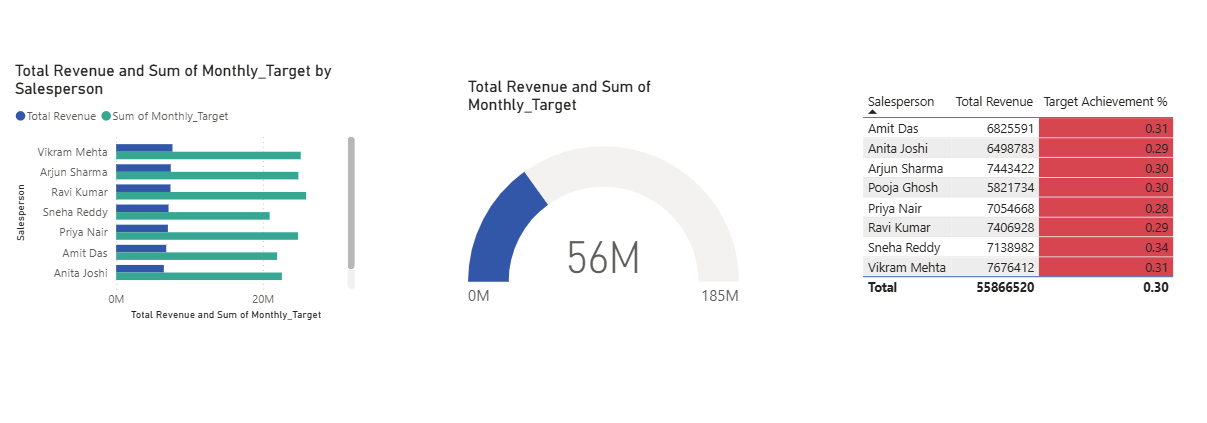

Layout of this report page (visuals, bound fields, positions):
{"tool":"powerbi","page":{"name":"Target vs Actual","canvas":[1280,720],"ordinal":2},"visuals":[{"type":"clusteredBarChart","fields":{"Category":["sales_data.Salesperson"],"Y":["sales_data.Total Revenue","Sum(sales_data.Monthly_Target)"]},"box":[12.9,80.6,369.9,279.6],"z":0},{"type":"gauge","fields":{"Y":["sales_data.Total Revenue"],"MaxValue":["Sum(sales_data.Monthly_Target)"]},"box":[491.4,98.9,296.8,281.7],"z":1},{"type":"tableEx","fields":{"Values":["sales_data.Salesperson","sales_data.Total Revenue","sales_data.Target Achievement %"]},"box":[909.7,107.5,362.4,273.1],"z":2}]}

Visuals, with their boxes on the page's 1280x720 design canvas (x1, y1, x2, y2). These are canvas units, not pixel positions in the 1207x423 screenshot, which may show the page scaled, cropped or inside an application window:
clusteredBarChart - sales_data.Salesperson x sales_data.Total Revenue: [x1=13, y1=81, x2=383, y2=360]
gauge - sales_data.Total Revenue x Sum(sales_data.Monthly_Target): [x1=491, y1=99, x2=788, y2=381]
tableEx - sales_data.Salesperson x sales_data.Total Revenue: [x1=910, y1=108, x2=1272, y2=381]
